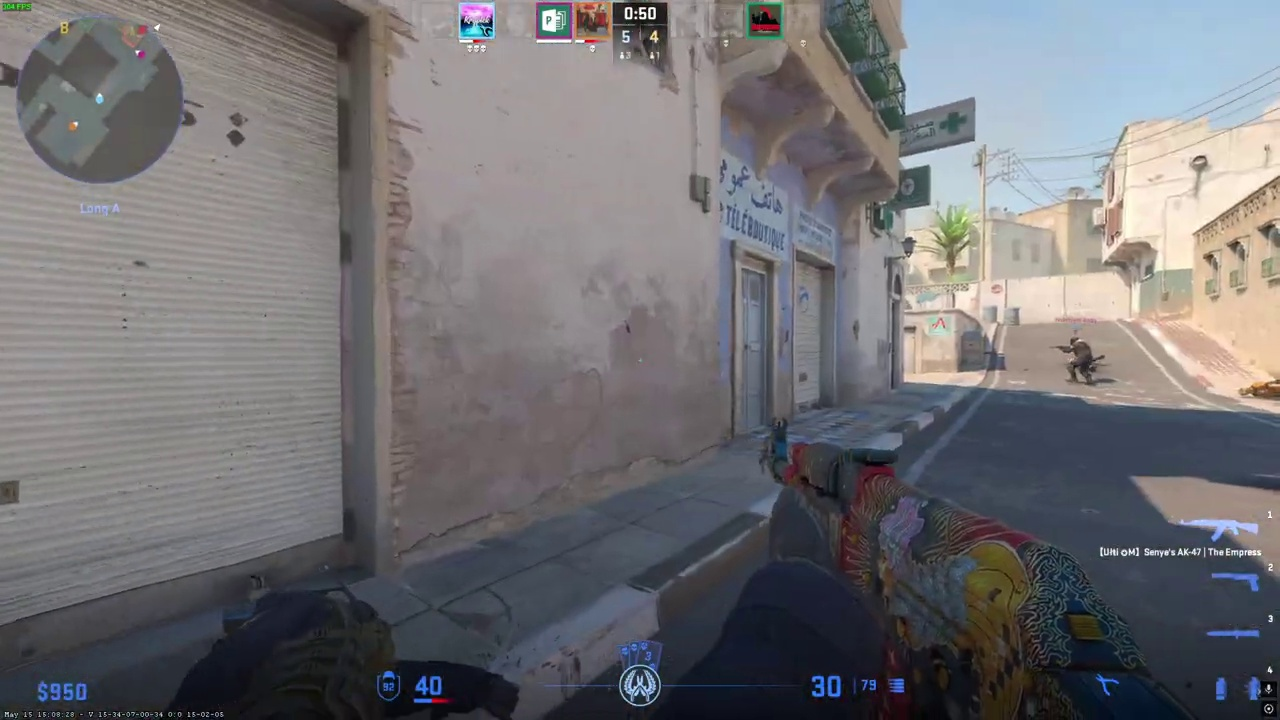CT: (1067, 336, 1094, 385)
